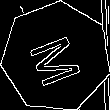M_E: (24, 26, 88, 87)
